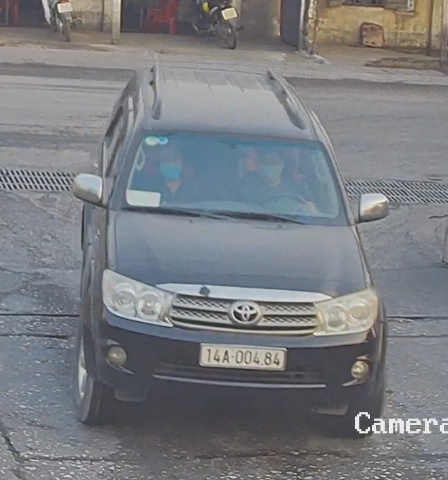vehicle plate: (197, 339, 290, 378)
